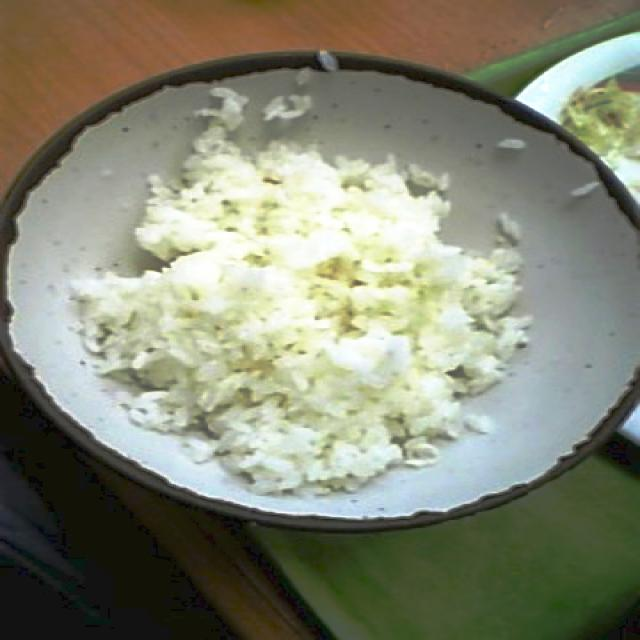rice: (68, 49, 532, 502)
